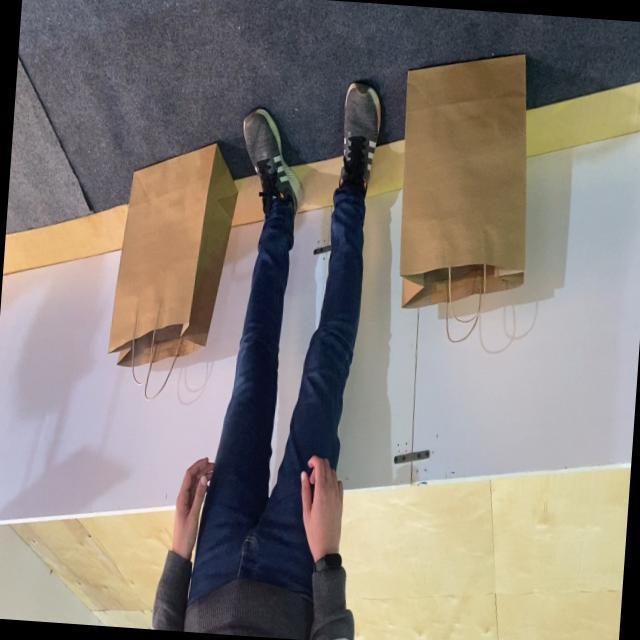Paper_Bag: (388, 46, 540, 348), (104, 136, 241, 404)
